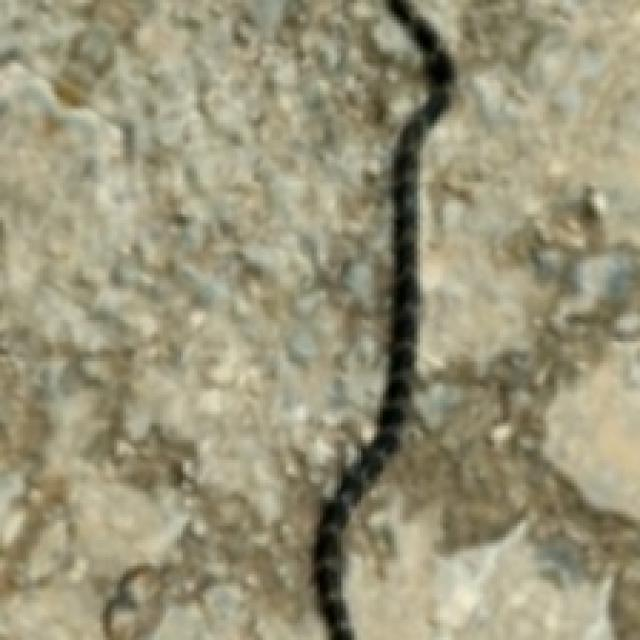king cobra: (311, 0, 451, 637)
